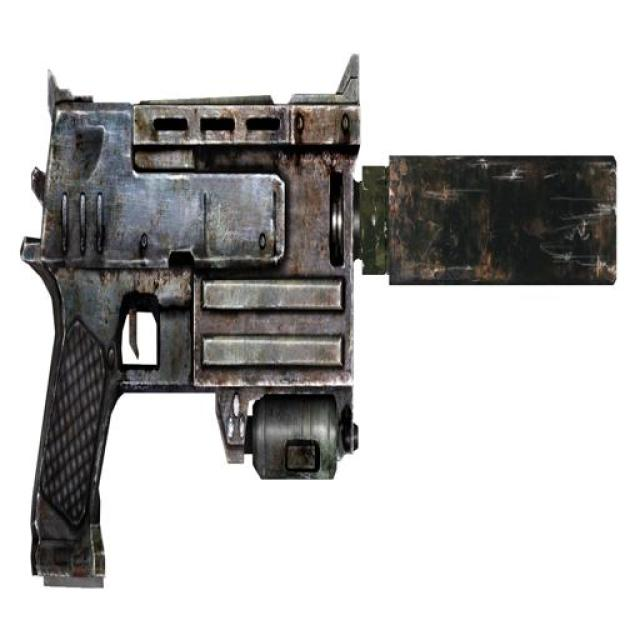pistol: (21, 73, 620, 594)
